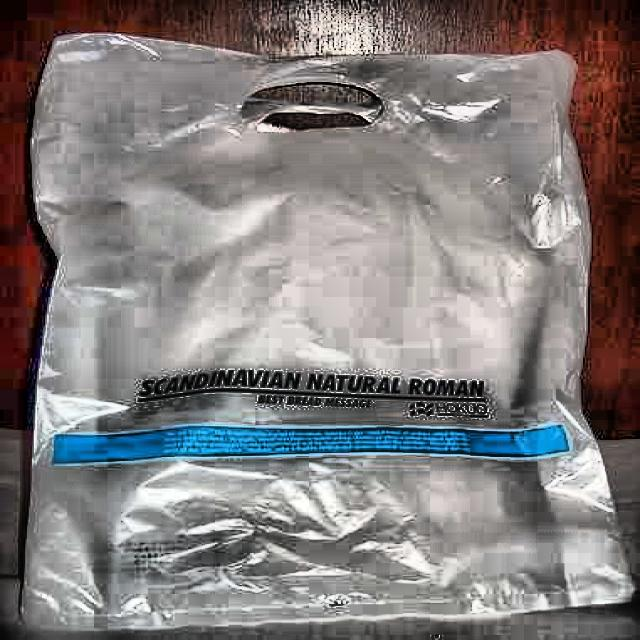Plastic: (22, 14, 640, 639)
